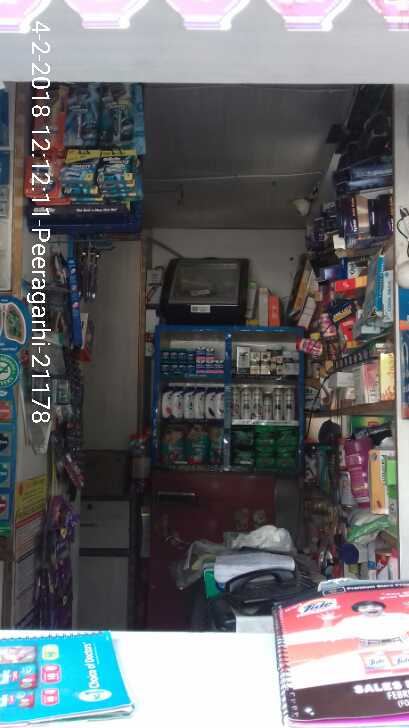vicks: (158, 344, 228, 377)
